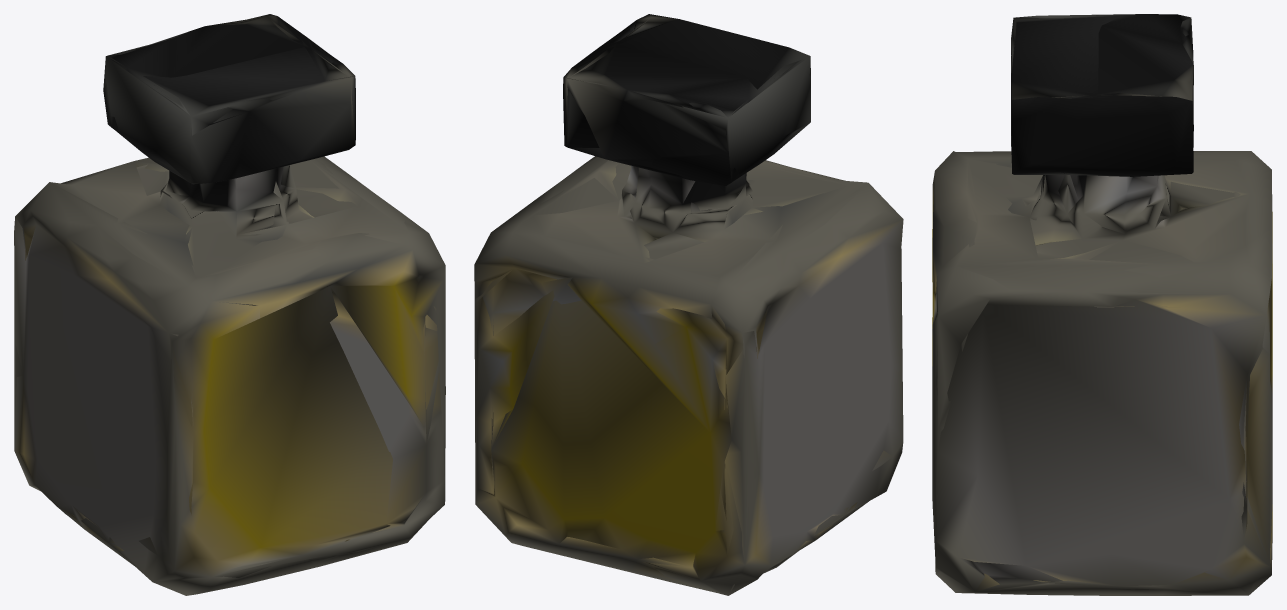
Rendered from gen3d-perfume-lod0.glb.
The picture shows the model from 3 angles, left to right: view 1: azimuth 30°, elevation 25°; view 2: azimuth 150°, elevation 25°; view 3: azimuth 270°, elevation 25°; orthographic projection. The views are drawn at different scales.
Parts seen in each view (by area): view 1: part_0; view 2: part_0; view 3: part_0.
Boxes of the visible parts, x1=… form: part_0: x1=14, y1=14, x2=445, y2=595; part_0: x1=474, y1=14, x2=903, y2=595; part_0: x1=932, y1=14, x2=1272, y2=595.
Bounding box in the file's own units: 0.6308 × 0.9999 × 0.6352.
